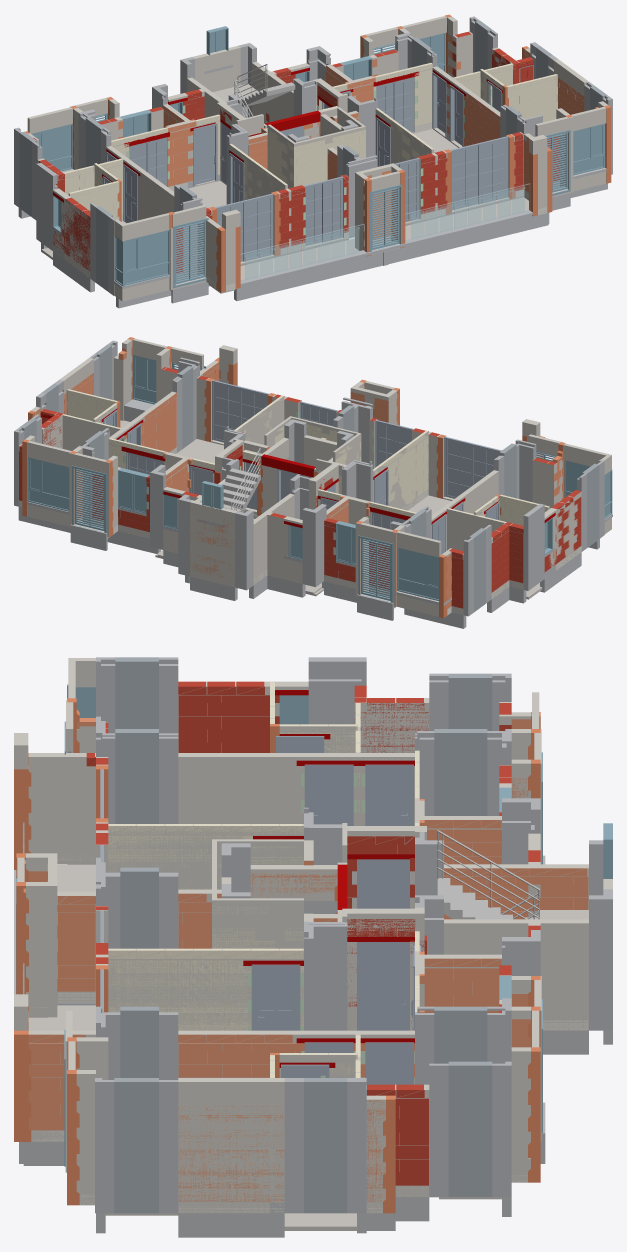
3 views of the same model, one above another, from view 1: azimuth 30°, elevation 25°; view 2: azimuth 150°, elevation 25°; view 3: azimuth 270°, elevation 25° (orthographic). The views are drawn at different scales.
Parts seen in each view (by area): view 1: C_Q, C_M, C_W, C_Z.001, C_QC__T100, C_L, C_QC__T250, C_QC__T200, C_G, C_GZ, C_JL, C_B (+4 smaller); view 2: C_Q, C_Z.001, C_W, C_M, C_QC__T250, C_L, C_QC__T100, C_JL, C_QC__T200, C_GZ, C_GL, C_B (+2 smaller); view 3: C_Q, C_Z.001, C_JL, C_QC__T200, C_M, C_QC__T250, C_QC__T100, C_GZ, C_L, C_B, C_W, C_GL (+2 smaller).
Boxes of the visible parts, box(x1,y1,x2,y2) form: C_Q: box(27, 16, 607, 301); C_M: box(103, 72, 508, 261); C_W: box(31, 26, 605, 287); C_Z.001: box(14, 16, 612, 295); C_QC__T100: box(63, 63, 557, 244); C_L: box(18, 65, 607, 308); C_QC__T250: box(33, 31, 559, 272); C_QC__T200: box(118, 33, 598, 238); C_G: box(241, 183, 530, 279); C_GZ: box(25, 14, 611, 292); C_JL: box(19, 20, 606, 291); C_B: box(19, 84, 528, 294); C_Q: box(18, 338, 611, 616); C_Z.001: box(14, 340, 604, 616); C_W: box(27, 355, 612, 602); C_M: box(103, 380, 501, 554); C_QC__T250: box(19, 367, 581, 608); C_L: box(18, 399, 612, 628); C_QC__T100: box(63, 389, 555, 557); C_JL: box(20, 344, 599, 611); C_QC__T200: box(36, 348, 562, 608); C_GZ: box(22, 337, 565, 618); C_GL: box(40, 408, 555, 528); C_B: box(120, 420, 598, 615); C_Q: box(14, 658, 612, 1213); C_Z.001: box(95, 657, 612, 1213); C_JL: box(114, 657, 492, 1213); C_QC__T200: box(28, 718, 588, 1201); C_M: box(100, 736, 420, 1084); C_QC__T250: box(86, 681, 540, 1185); C_QC__T100: box(108, 682, 419, 1182); C_GZ: box(14, 698, 540, 1213); C_L: box(14, 855, 612, 1237); C_B: box(28, 864, 588, 1230); C_W: box(16, 684, 612, 1166); C_GL: box(243, 690, 414, 1067).
Size of the model in its own units: 20.8 by 4.5 by 12.4.
